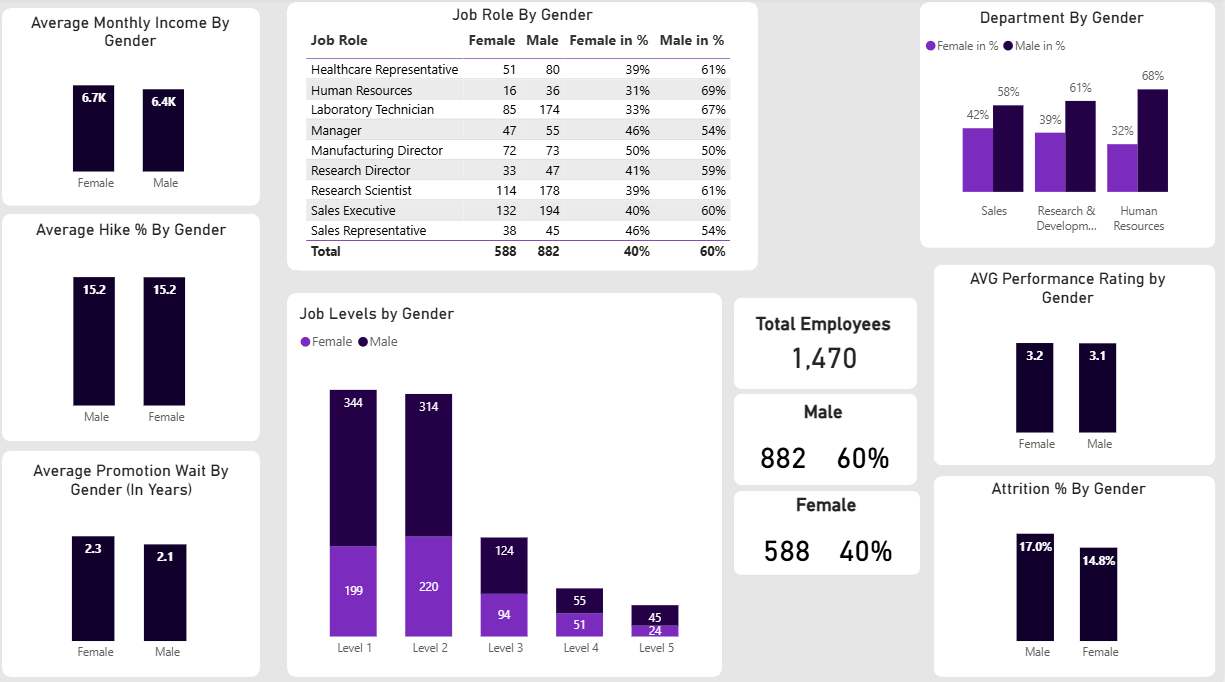

This screenshot's page, from the dashboard's own definition file:
{"tool":"powerbi","page":{"name":"Inclusion ","canvas":[1280,720],"ordinal":1},"visuals":[{"type":"shape","box":[976.9,279.8,293.8,209.4],"z":0},{"type":"shape","box":[962.8,6.3,307.9,256.3],"z":1000},{"type":"shape","box":[976.9,500.2,293.8,209.4],"z":2000},{"type":"shape","box":[303.2,6.3,490.8,279.8],"z":3000},{"type":"shape","box":[303.2,309.5,453.3,400.1],"z":4000},{"type":"shape","box":[6.3,473.6,268.8,236],"z":5000},{"type":"shape","box":[6.3,226.6,268.8,237.6],"z":6000},{"type":"shape","box":[6.3,12.5,268.8,206.3],"z":7000},{"type":"clusteredColumnChart","title":"Average Monthly Income By Gender","fields":{"Y":["Dax 2.Average_monthly_income"],"Category":["HR Analytics Data.Gender"]},"box":[9.4,17.2,261,195.4],"z":8000},{"type":"clusteredColumnChart","title":"Average Hike % By Gender","fields":{"Y":["Dax 2.Average_hike %"],"Category":["HR Analytics Data.Gender"]},"box":[9.4,232.9,262.6,223.5],"z":9000},{"type":"clusteredColumnChart","title":"Average Promotion Wait By Gender (In Years)","fields":{"Y":["Dax 2.Avg_promotion_wait"],"Category":["HR Analytics Data.Gender"]},"box":[6.3,484.5,268.8,217.3],"z":10000},{"type":"columnChart","title":"Attrition % By Gender","fields":{"Category":["HR Analytics Data.Gender"],"Y":["Dax.Attrition %"]},"box":[998.7,503.3,237.6,198.5],"z":11000},{"type":"tableEx","title":"Job Role By Gender","fields":{"Values":["HR Analytics Data.Job Role","Dax.Female","Dax.Male","Dax.Female in %","Dax.Male in %"]},"box":[317.3,9.4,462.6,276.6],"z":12000},{"type":"clusteredColumnChart","title":"Department By Gender","fields":{"Category":["HR Analytics Data.Department"],"Y":["Dax.Female in %","Dax.Male in %"]},"box":[962.8,12.5,295.4,242.3],"z":13000},{"type":"columnChart","title":"Job Levels by Gender","fields":{"Y":["Dax.Female","Dax.Male"],"Category":["HR Analytics Data.Job Levels"]},"box":[311,320.4,439.2,376.7],"z":14000},{"type":"columnChart","fields":{"Category":["HR Analytics Data.Gender"],"Y":["Dax 2.AVG Performance Rating"]},"box":[998.7,284.5,236,200.1],"z":15000},{"type":"shape","box":[769,313.6,190.7,95.3],"z":16000},{"type":"card","title":"Total Employees","fields":{"Values":["Dax.Total Employees"]},"box":[781.5,329.2,161,67.2],"z":17000},{"type":"shape","box":[769,414.2,190.7,95.3],"z":18000},{"type":"cardVisual","title":"Male","fields":{"Data":["Dax.Male","Dax.Male in %"]},"box":[773.7,422,176.6,87.5],"z":19000},{"type":"shape","box":[769,516.3,193.8,87.5],"z":20000},{"type":"cardVisual","title":"Female","fields":{"Data":["Dax.Female","Dax.Female in %"]},"box":[776.8,519.5,176.6,81.3],"z":21000}]}

Visuals, with their boxes in screenshot pixels (x1, y1, x2, y2), scaled from the page's 1280x720 canvas onto the 1225x682 screenshot:
shape: 935, 265, 1216, 463
shape: 921, 6, 1216, 249
shape: 935, 474, 1216, 672
shape: 290, 6, 760, 271
shape: 290, 293, 724, 672
shape: 6, 449, 263, 672
shape: 6, 215, 263, 440
shape: 6, 12, 263, 207
"Average Monthly Income By Gender" clusteredColumnChart: 9, 16, 259, 201
"Average Hike % By Gender" clusteredColumnChart: 9, 221, 260, 432
"Average Promotion Wait By Gender (In Years)" clusteredColumnChart: 6, 459, 263, 665
"Attrition % By Gender" columnChart: 956, 477, 1183, 665
"Job Role By Gender" tableEx: 304, 9, 746, 271
"Department By Gender" clusteredColumnChart: 921, 12, 1204, 241
"Job Levels by Gender" columnChart: 298, 303, 718, 660
columnChart - HR Analytics Data.Gender x Dax 2.AVG Performance Rating: 956, 269, 1182, 459
shape: 736, 297, 918, 387
"Total Employees" card: 748, 312, 902, 375
shape: 736, 392, 918, 483
"Male" cardVisual: 740, 400, 909, 483
shape: 736, 489, 921, 572
"Female" cardVisual: 743, 492, 912, 569
